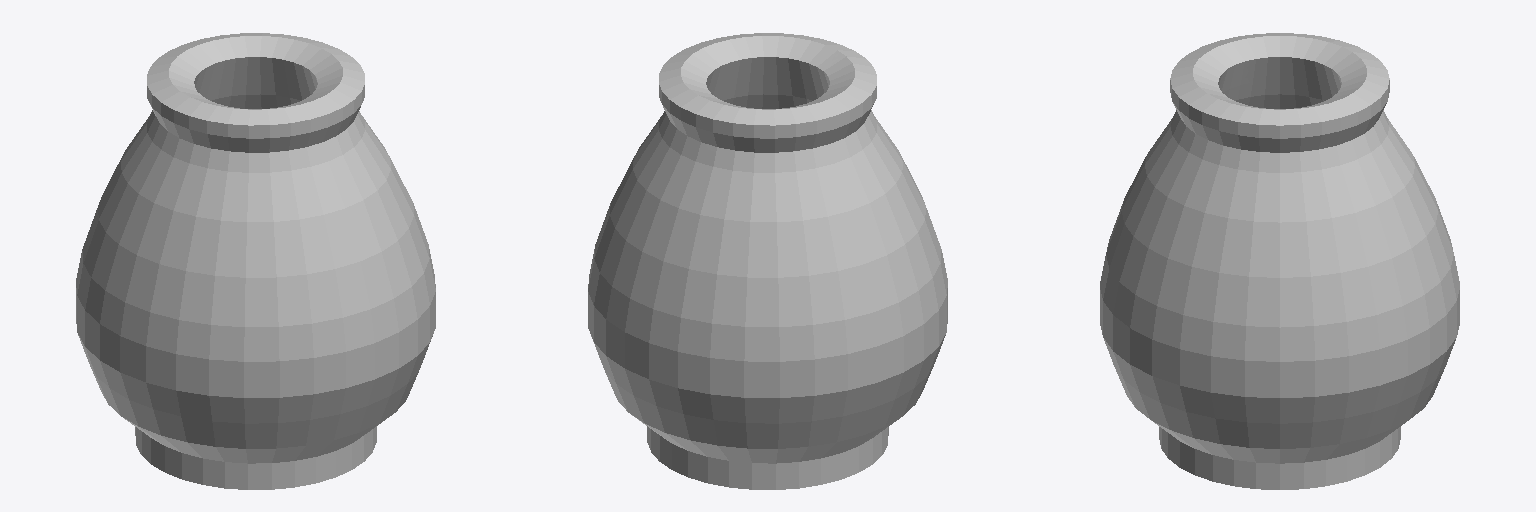
Rendered from urn.obj.
3 renders of one model, left to right at view 1: azimuth 30°, elevation 25°; view 2: azimuth 150°, elevation 25°; view 3: azimuth 270°, elevation 25°, orthographic.
Visible parts, largest first — view 1: Cylinder; view 2: Cylinder; view 3: Cylinder.
Boxes of the visible parts, x1,y1,x2,y2 form: Cylinder: [76, 33, 435, 489]; Cylinder: [588, 33, 947, 489]; Cylinder: [1100, 33, 1459, 489].
Size of the model in its own units: 2.99 by 3.35 by 2.99.